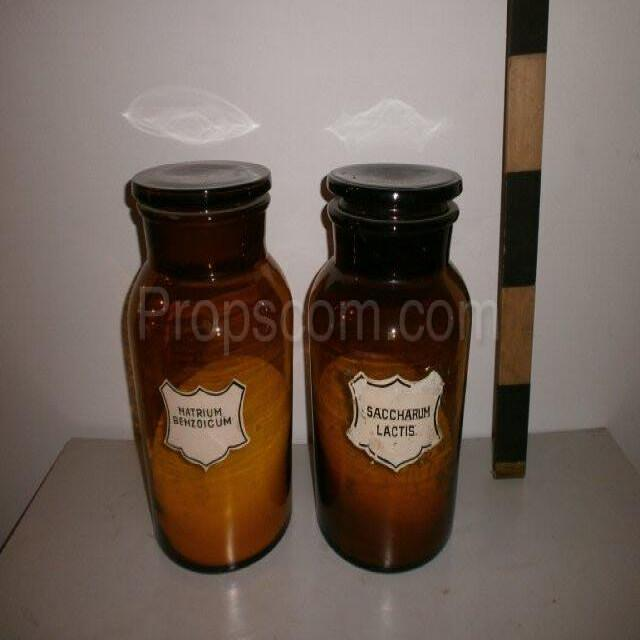glass: (117, 152, 300, 578)
